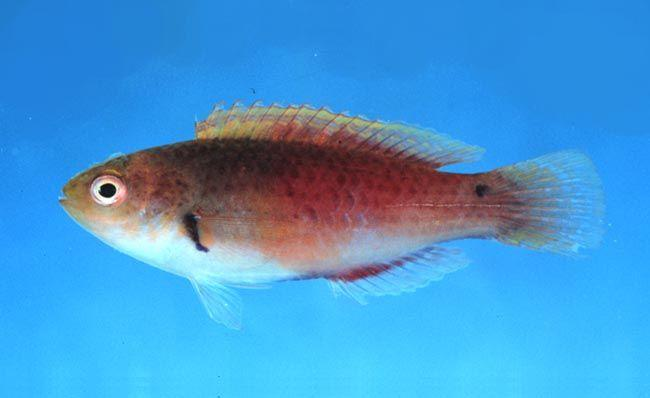fish: (58, 100, 604, 330)
